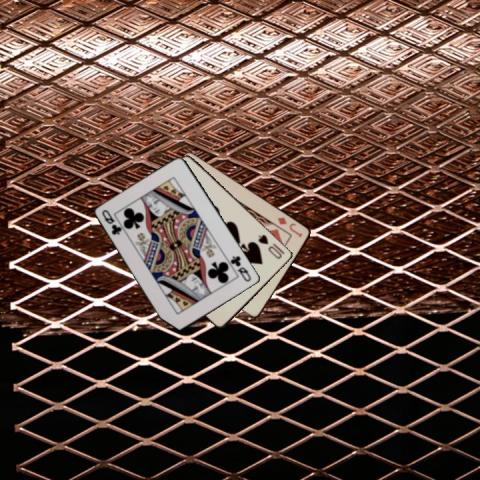10s: (255, 231, 284, 260)
Jd: (275, 214, 304, 239)
Qc: (228, 253, 253, 283), (100, 206, 124, 236)
